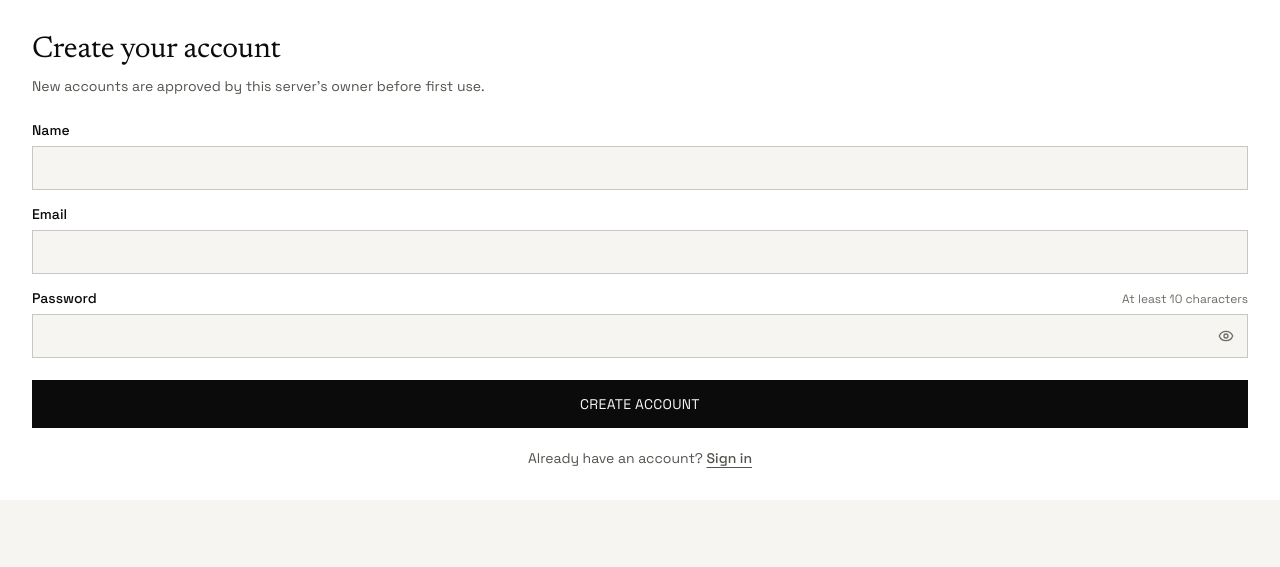
sign-up form › doesn't mention a setup code otherwise
The image size is (1280, 567).
Expected: the field labelled "Setup code" is not shown
Type "Owner" into the field labelled "Name". click: (640, 168)
box: top-left (32, 146), bottom-right (1248, 190)
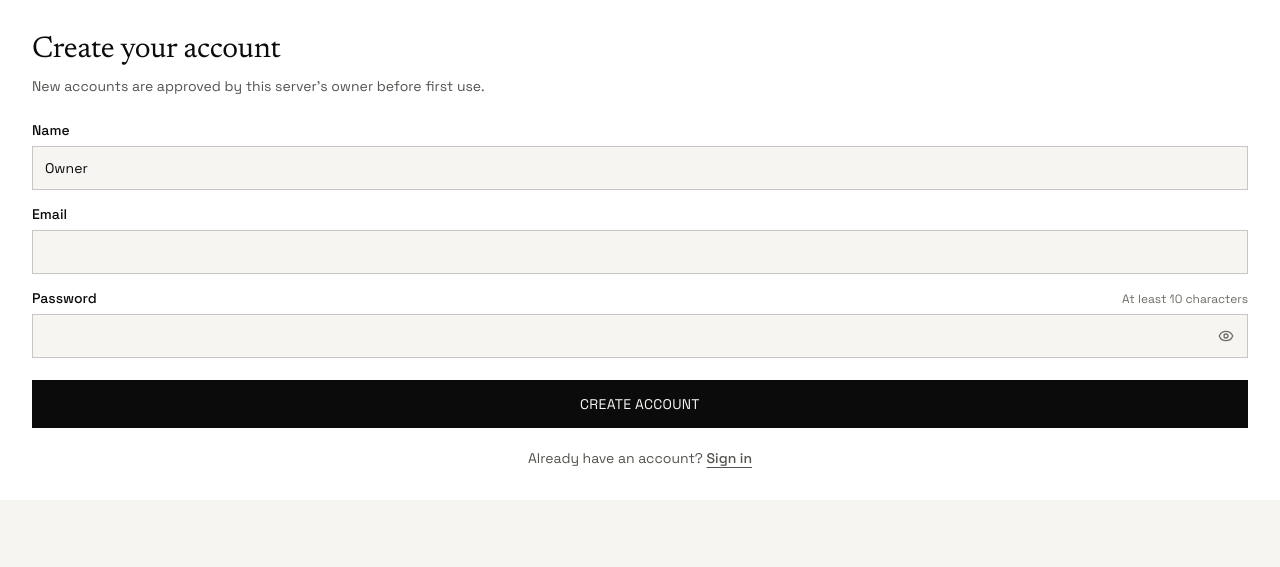
Type "owner@example.com" into the field labelled "Email". click: (640, 252)
box: top-left (32, 230), bottom-right (1248, 274)
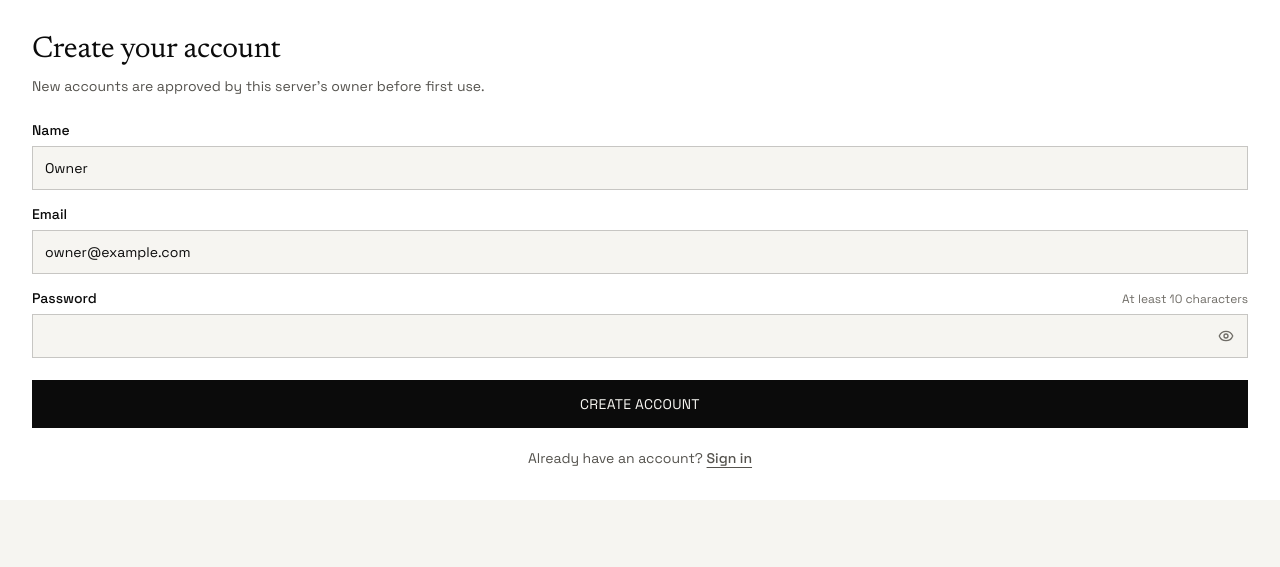
Type "long enough password" into the password field labelled "Password". click: (640, 336)
box: top-left (32, 314), bottom-right (1248, 358)
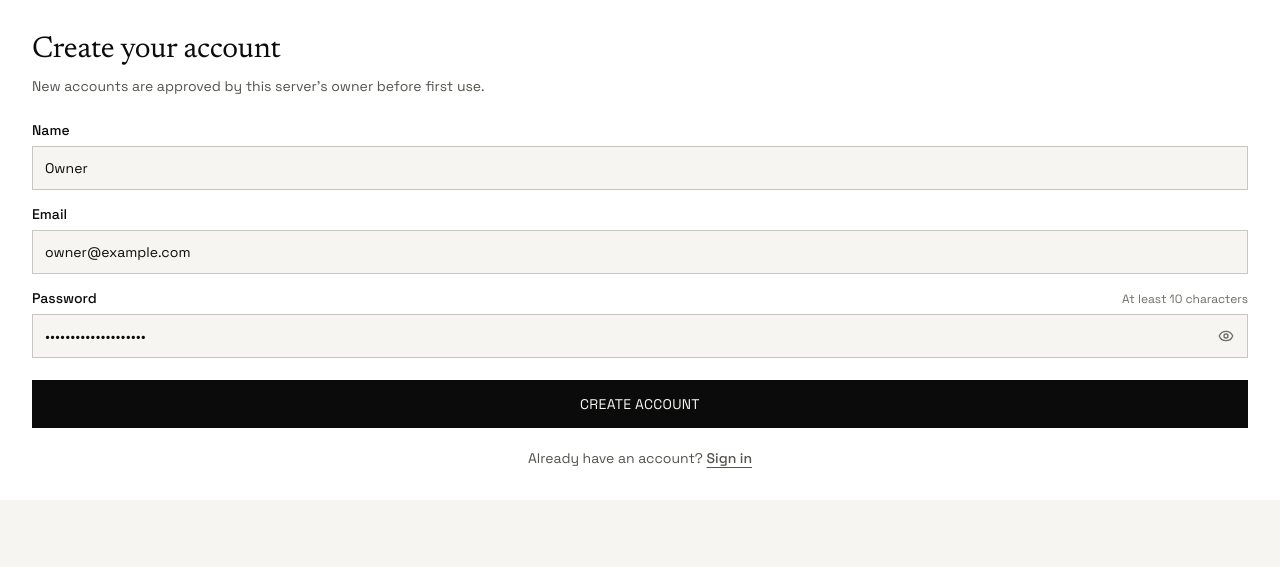
Submit the form "Create account", box top-left (32, 120), bottom-right (1248, 428)
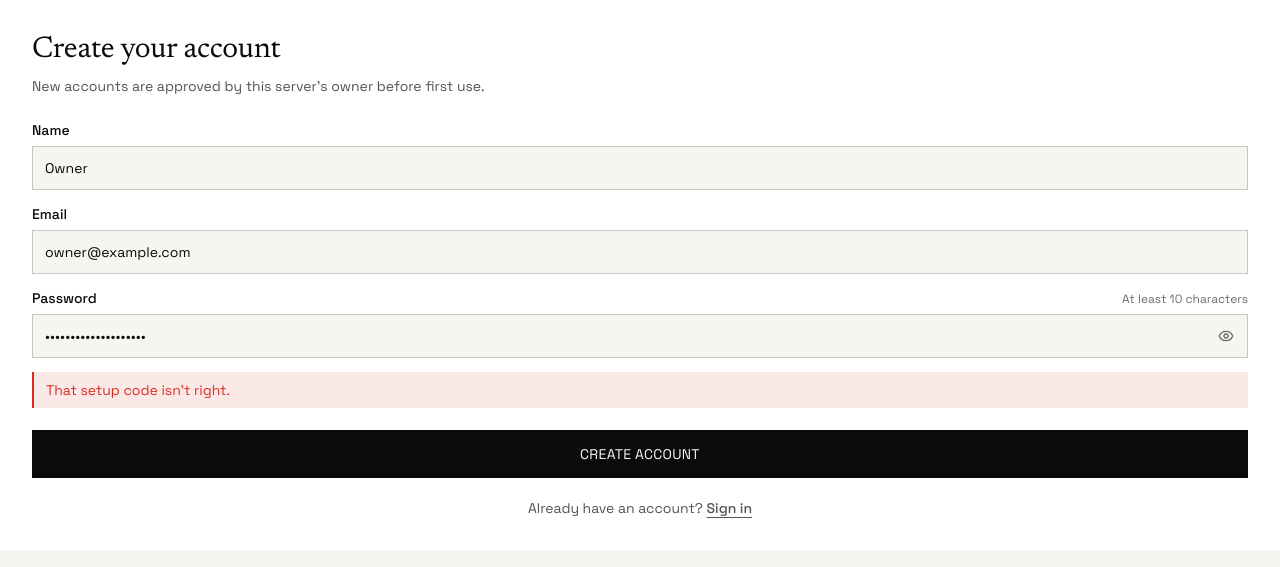
Expected: the text "That setup code isn't right." is shown, top-left (32, 372), bottom-right (1248, 408)
